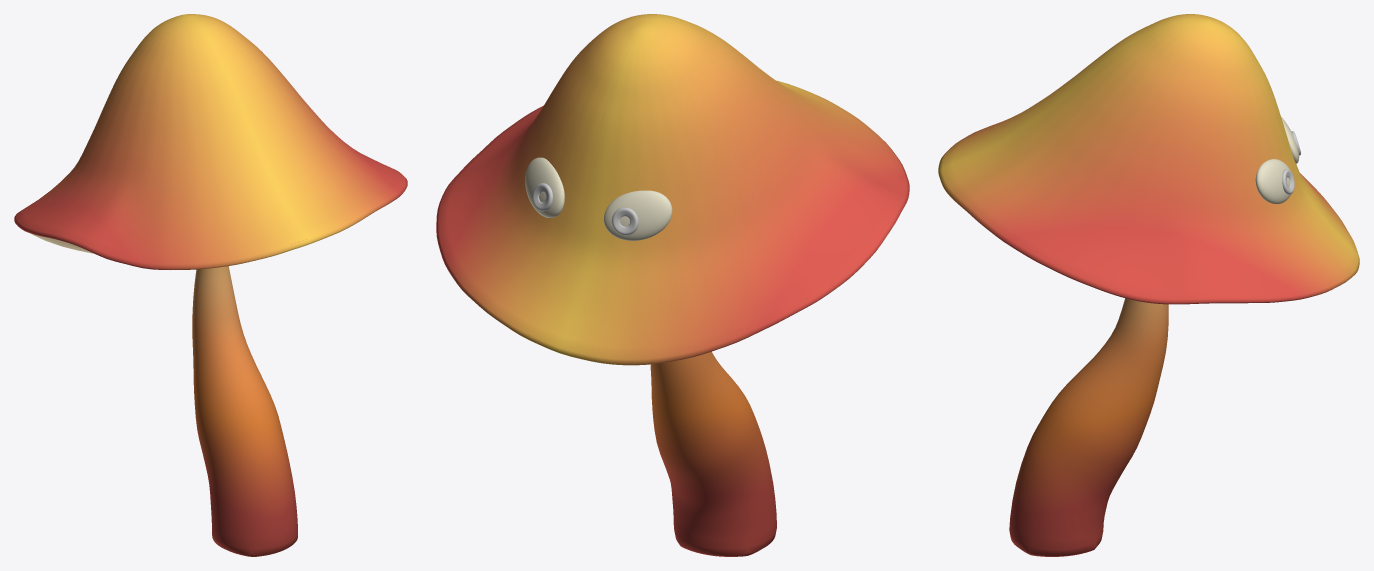
Rendered from mushroom_scene_12(2).fbx.
3 renders of one model, left to right at view 1: azimuth 30°, elevation 25°; view 2: azimuth 150°, elevation 25°; view 3: azimuth 270°, elevation 25°, orthographic. The views are drawn at different scales.
Visible parts, largest first — view 1: Circle; view 2: Circle; view 3: Circle.
Part boxes in pixels (x1,y1,x2,y2): Circle: (14,14,407,556); Circle: (436,14,909,556); Circle: (938,14,1359,556).
Bounding box in the file's own units: 4.53 × 6.01 × 4.42.
